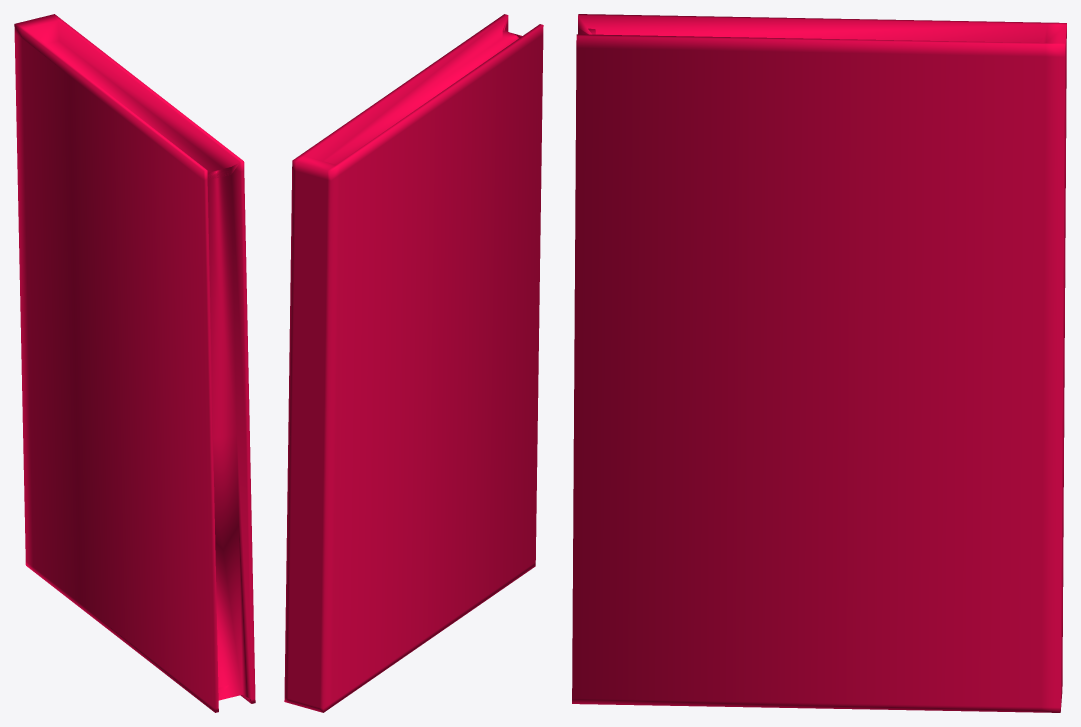
Rendered from Book_14.fbx.
3 renders of one model, left to right at view 1: azimuth 30°, elevation 25°; view 2: azimuth 150°, elevation 25°; view 3: azimuth 270°, elevation 25°, orthographic. The views are drawn at different scales.
Parts seen in each view (by area): view 1: Book14; view 2: Book14; view 3: Book14.
Part boxes in pixels (bbox=[...]): Book14: bbox=[14, 14, 255, 712]; Book14: bbox=[284, 14, 543, 712]; Book14: bbox=[572, 14, 1066, 712].
Bounding box in the file's own units: 3.7 × 32.09 × 21.64.
